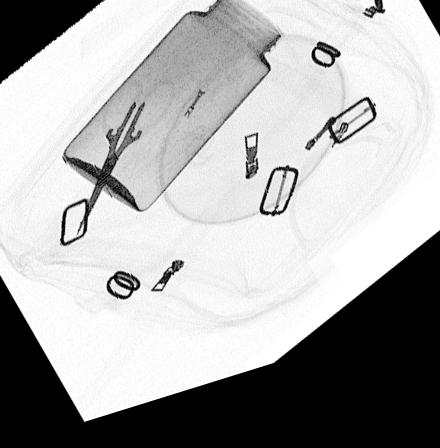Scissors: (75, 80, 186, 241)
